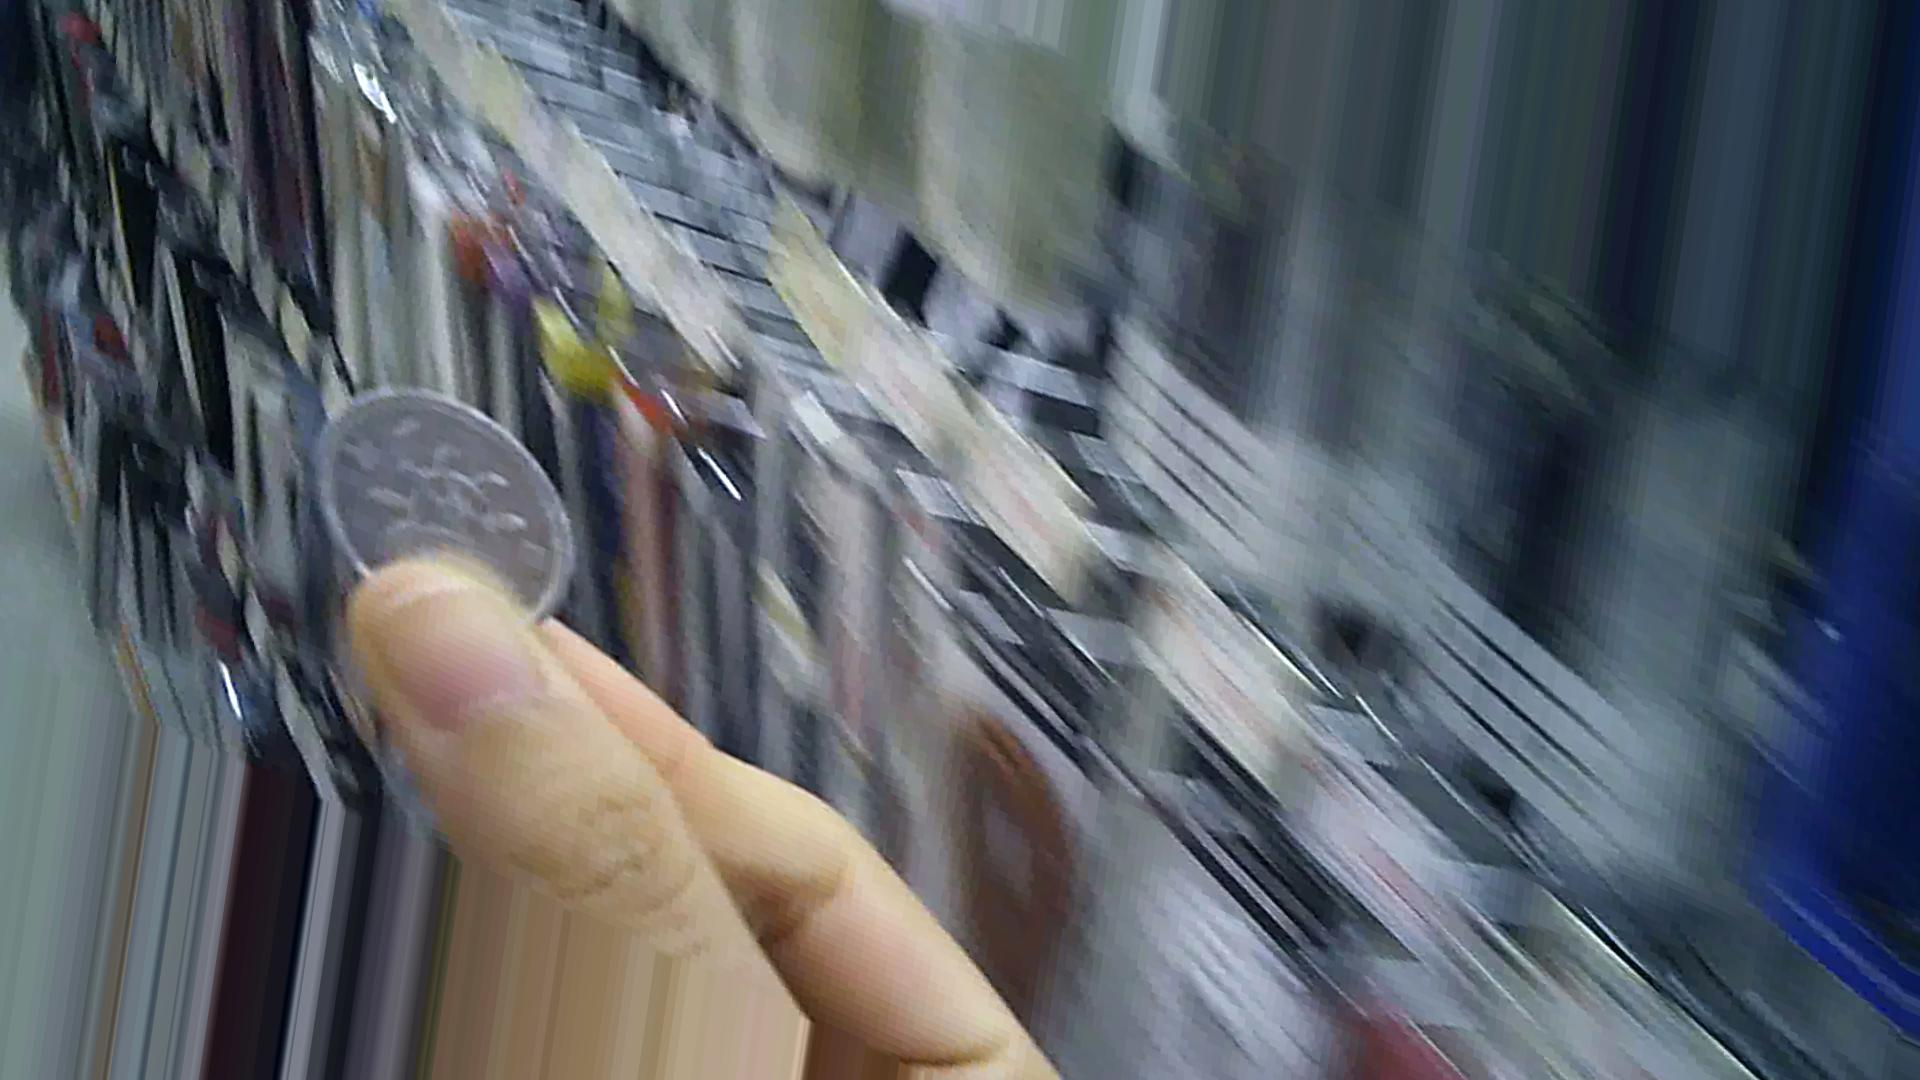1 Yen: (307, 392, 580, 636)
